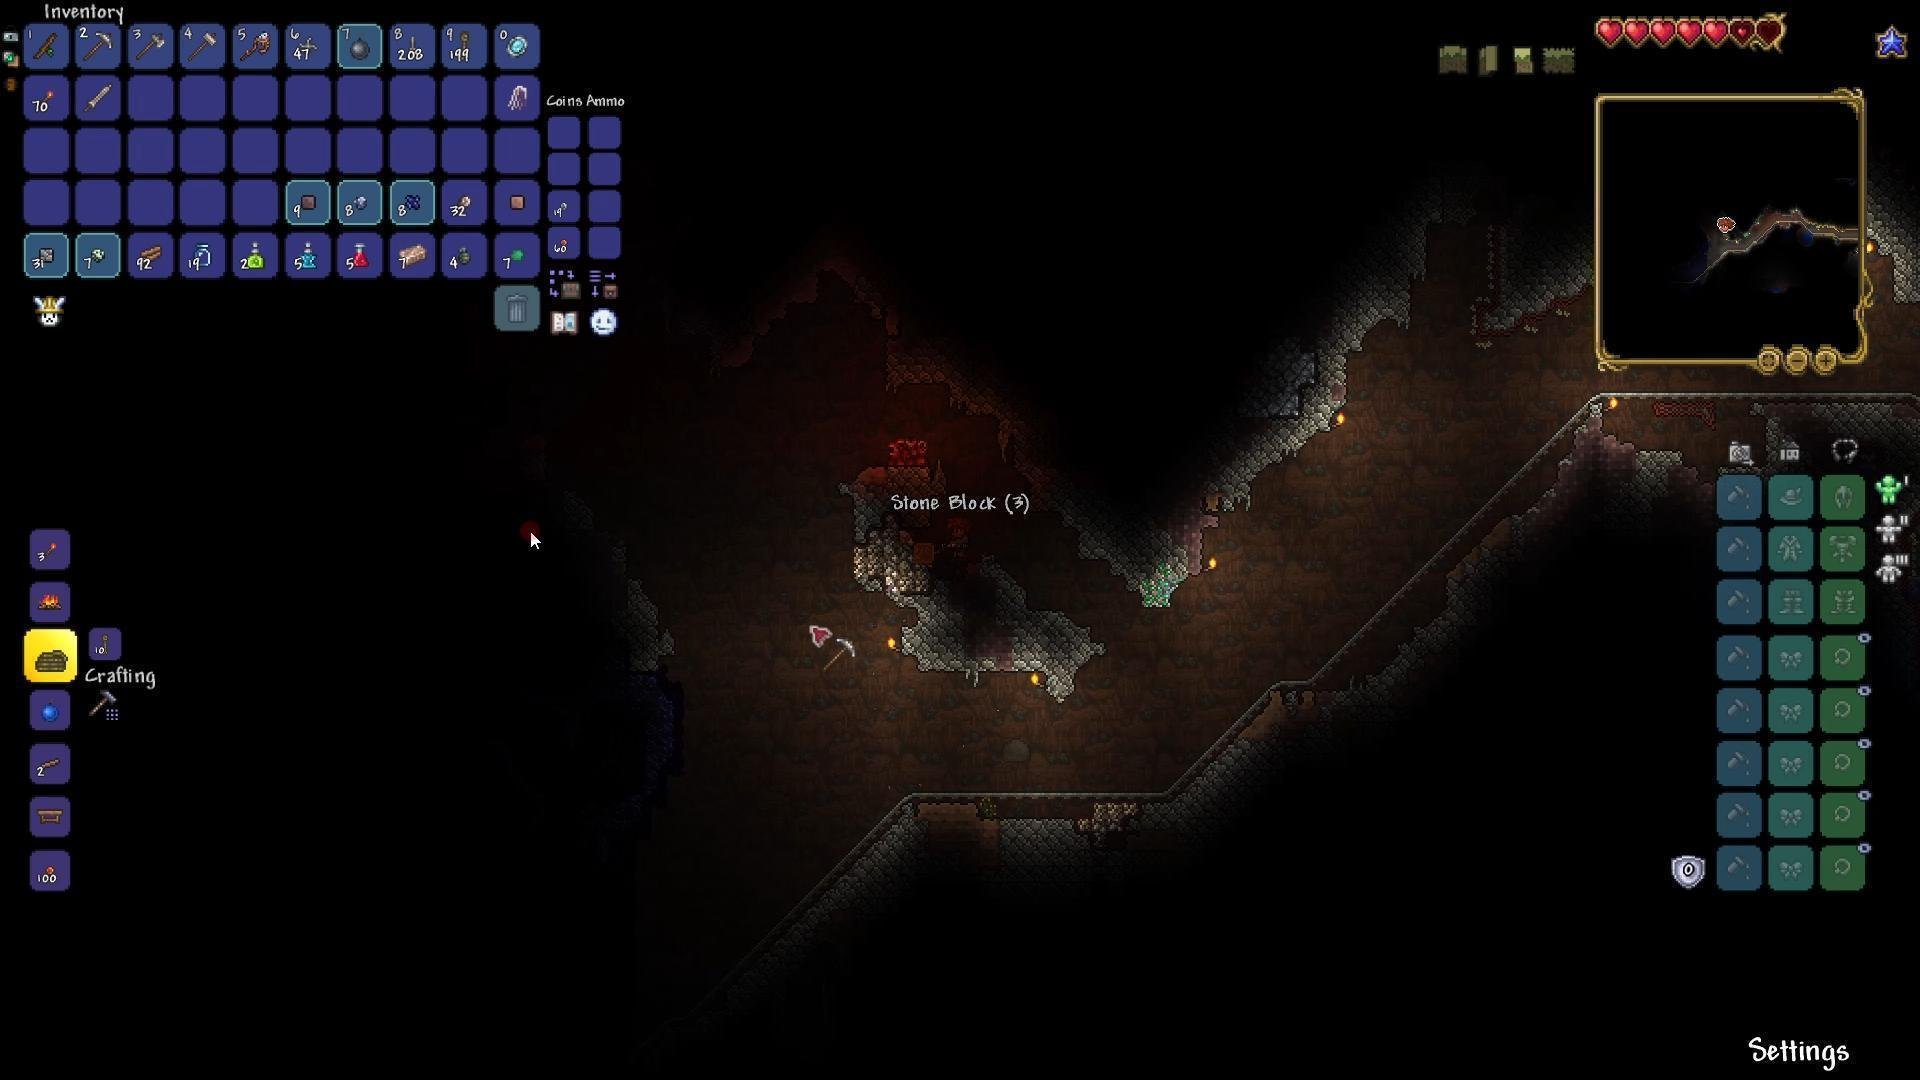altar: (870, 425, 948, 473)
axe: (136, 33, 167, 65)
bomb: (348, 36, 371, 61)
wood: (137, 243, 164, 260)
workbench: (36, 804, 65, 824)
